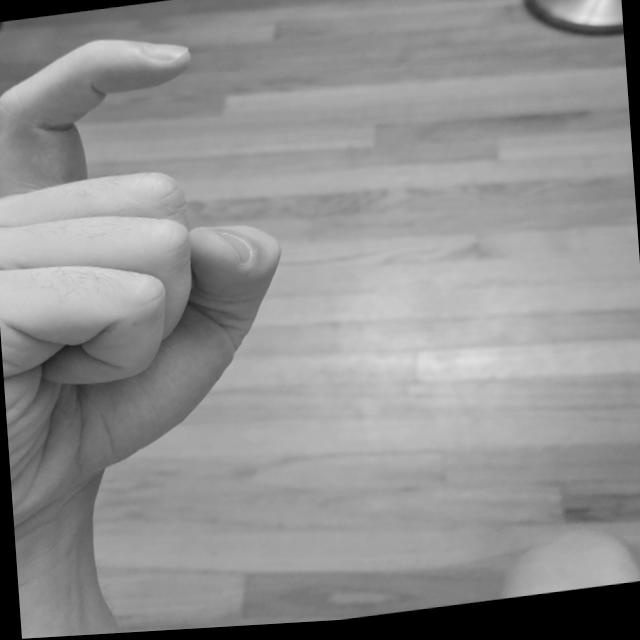X: (0, 10, 310, 546)
